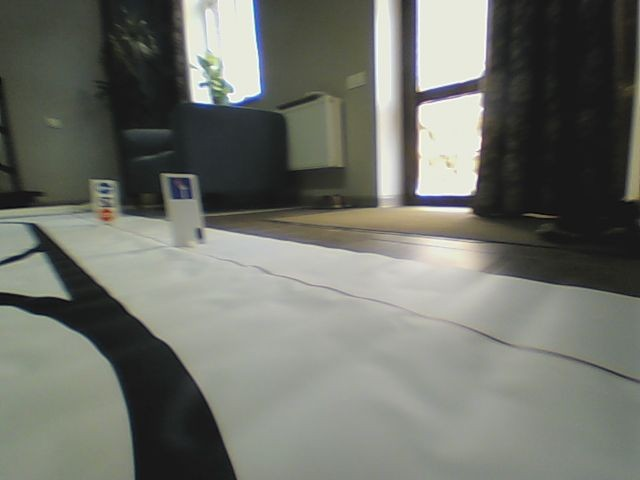priority_movement: (166, 176, 194, 201)
